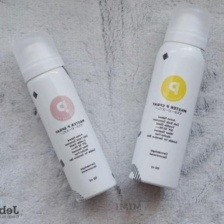aerosol_cans: (6, 26, 121, 204), (123, 1, 215, 195)
